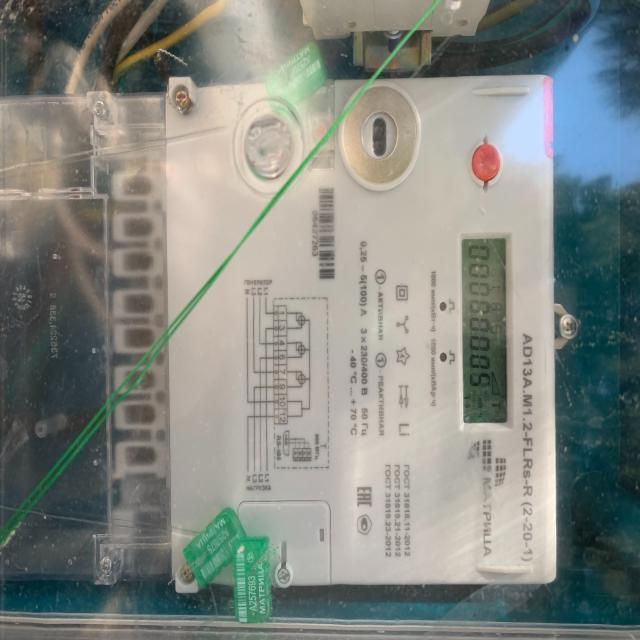Display: (460, 233, 509, 425)
meter_matrica: (91, 68, 565, 620)
meter_number: (304, 180, 340, 279)
